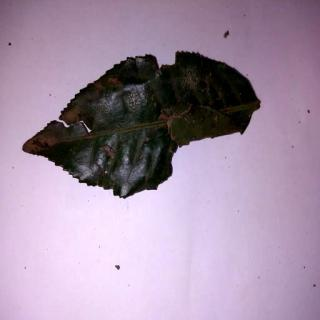Anthracnose: (24, 53, 262, 199)
